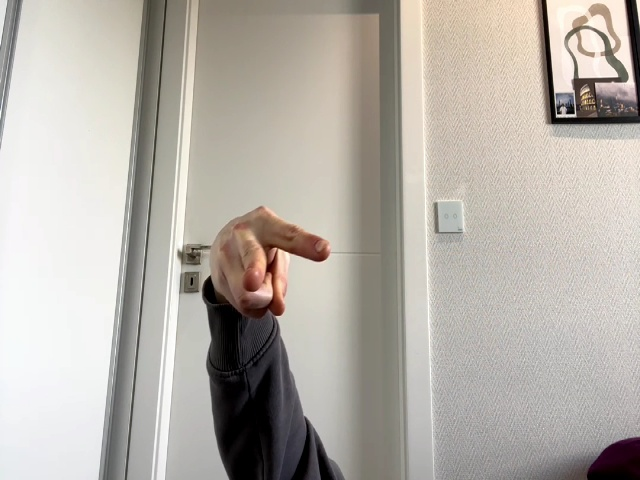U: (211, 206, 330, 318)
